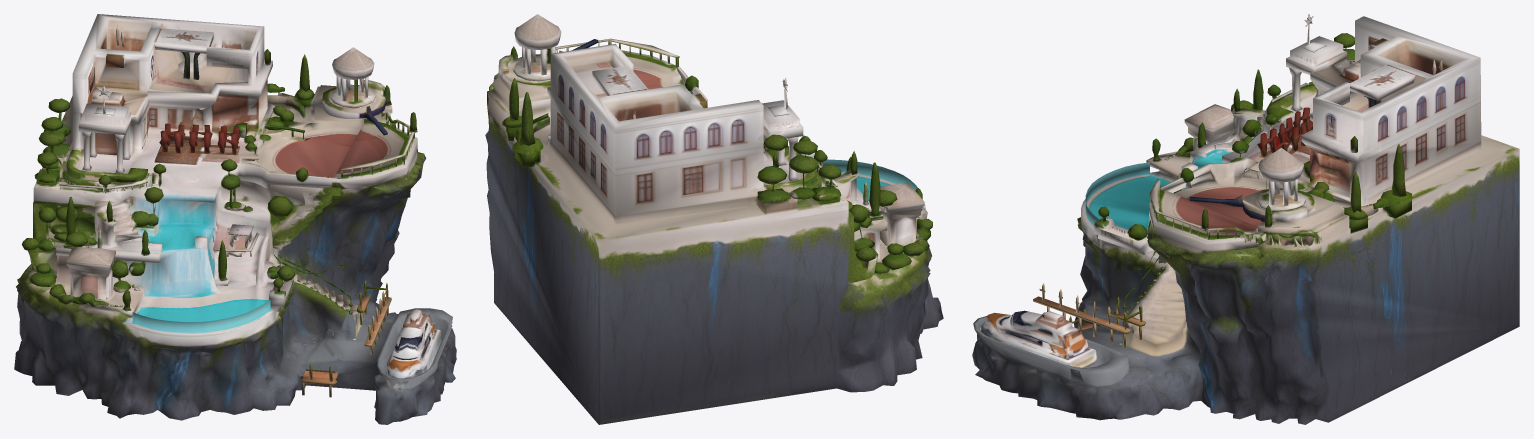
The model's file is tier6-lv27.glb.
3 views of the same model, side by side, from view 1: azimuth 30°, elevation 25°; view 2: azimuth 150°, elevation 25°; view 3: azimuth 270°, elevation 25° (orthographic). The views are drawn at different scales.
Parts seen in each view (by area): view 1: tripo_node_0056561c-c539-44c4-b4c7-9c9dbdc6b655; view 2: tripo_node_0056561c-c539-44c4-b4c7-9c9dbdc6b655; view 3: tripo_node_0056561c-c539-44c4-b4c7-9c9dbdc6b655.
Part boxes in pixels (<box>): tripo_node_0056561c-c539-44c4-b4c7-9c9dbdc6b655: <box>14,14,456,424</box>; tripo_node_0056561c-c539-44c4-b4c7-9c9dbdc6b655: <box>485,14,943,424</box>; tripo_node_0056561c-c539-44c4-b4c7-9c9dbdc6b655: <box>972,14,1519,424</box>.
Size of the model in its own units: 0.9692 by 0.6465 by 1.16.
Materials: 1 (1 with a texture image).
